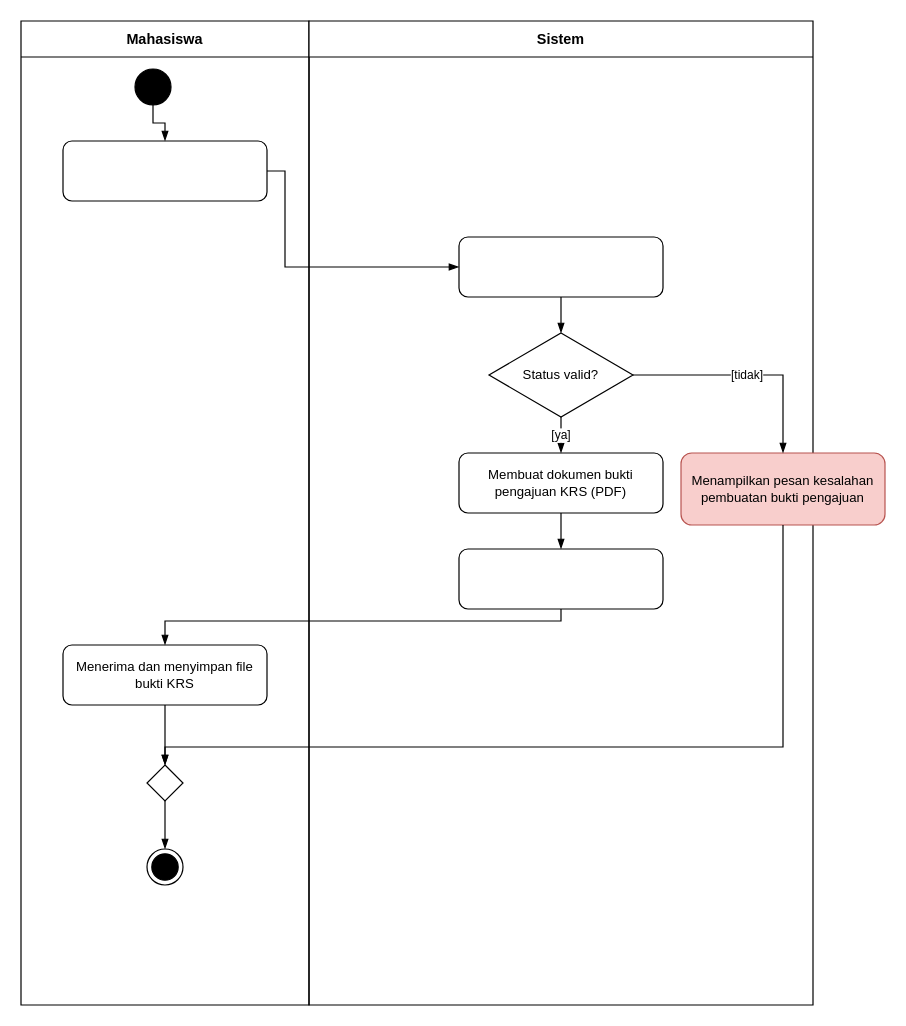
This 906x1026 diagram has some shape labels left out. The shapes that lost their labels are listed below. From the top down, each one's centre as x and y in pixels, then its label:
At (x=164, y=170): "Memilih opsi Unduh Bukti Pengajuan pada konfirmasi KRS".
At (x=560, y=266): "Memverifikasi status pengajuan KRS mahasiswa".
At (x=560, y=578): "Memulai unduhan file dokumen bukti ke perangkat".
